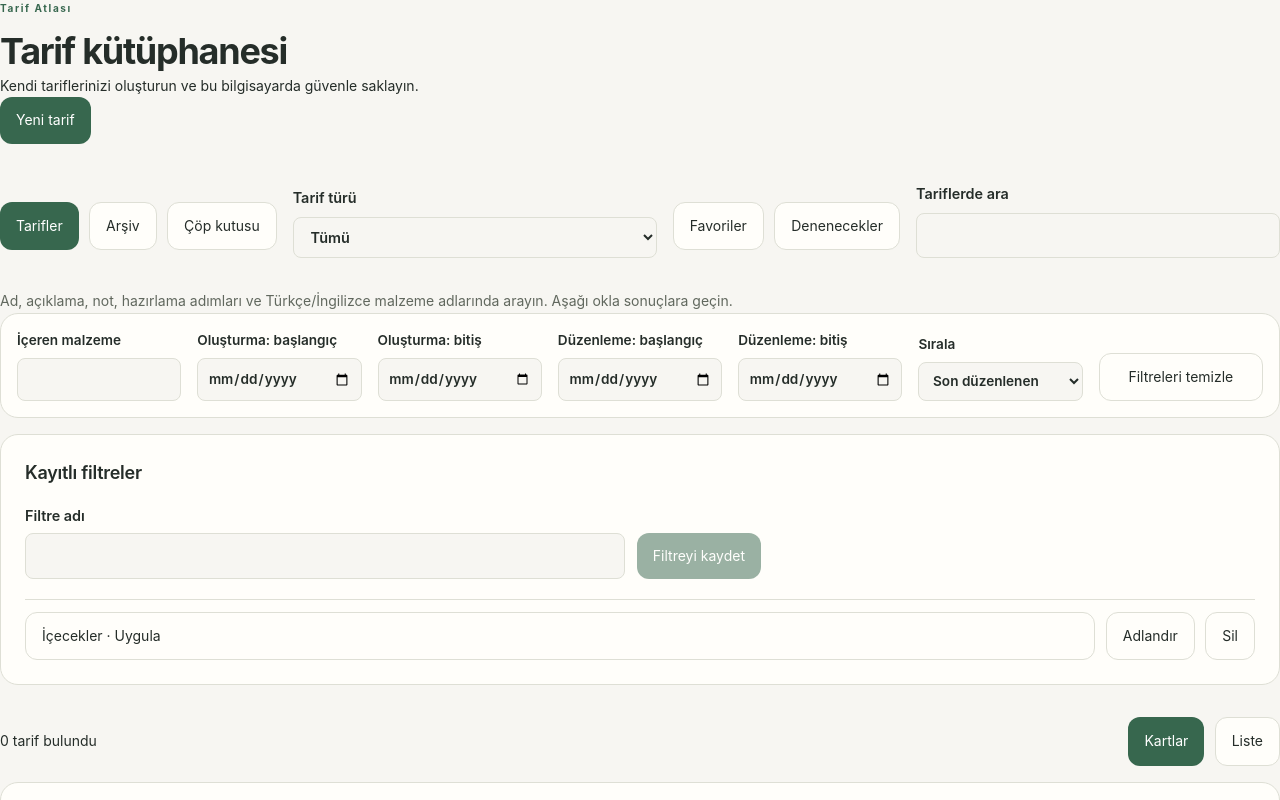
named filter is saved without pagination and applying it resets to first page
The width and height of the screenshot is (1280, 800).
Expected: the button "İçecekler · Uygula" is shown, [25,612,1096,660]
Type "İçli tarifler" into the field labelled "Filtre adı" at [325, 556], box [25,533,625,579]
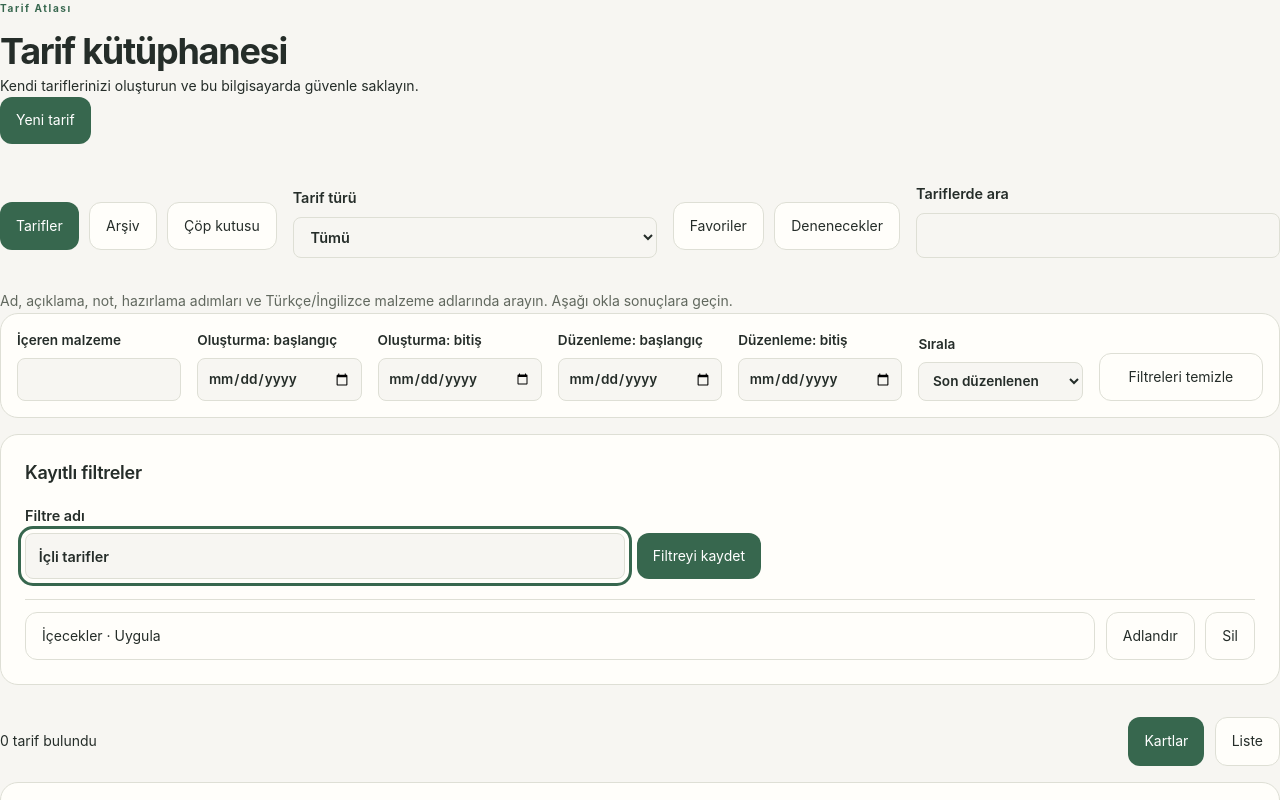
Click the button "Filtreyi kaydet" at [699, 556], box [637,532,761,579]
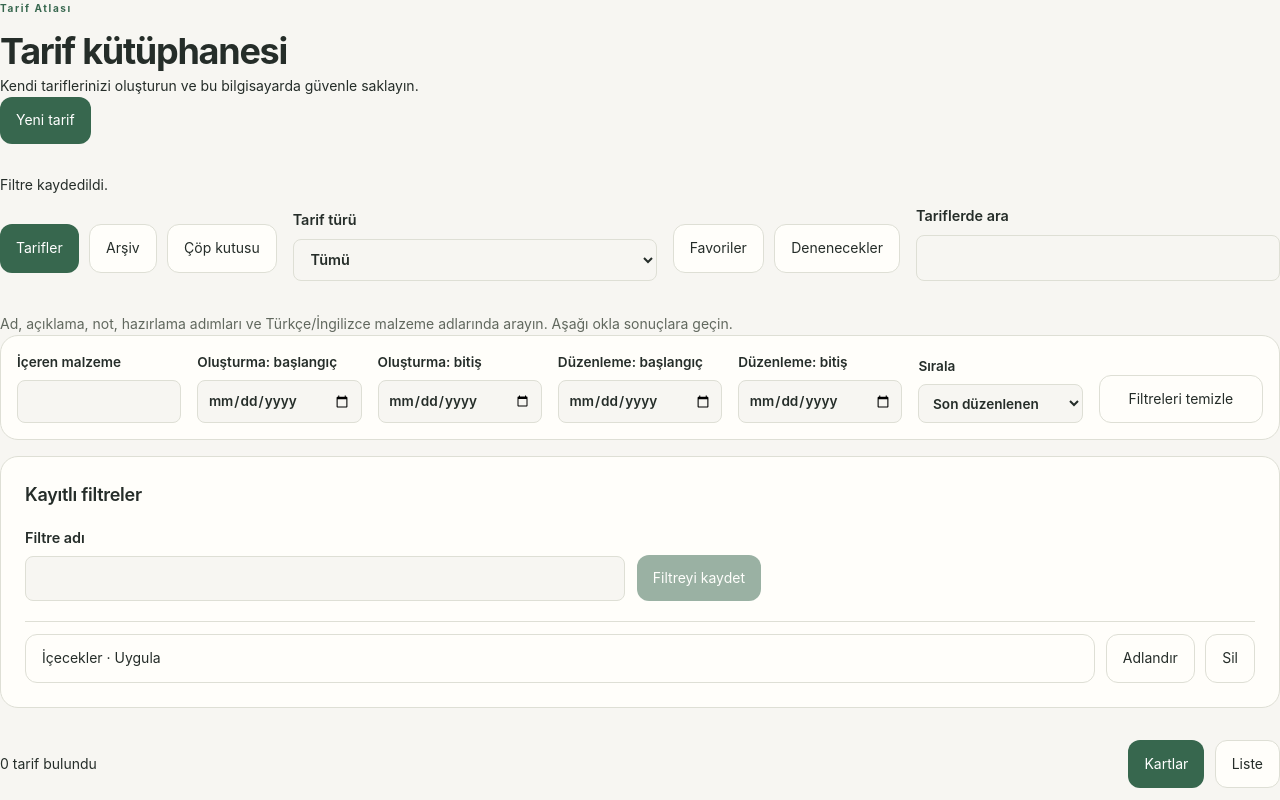
Click the button "İçecekler · Uygula" at [72, 658], box [25,634,1096,683]
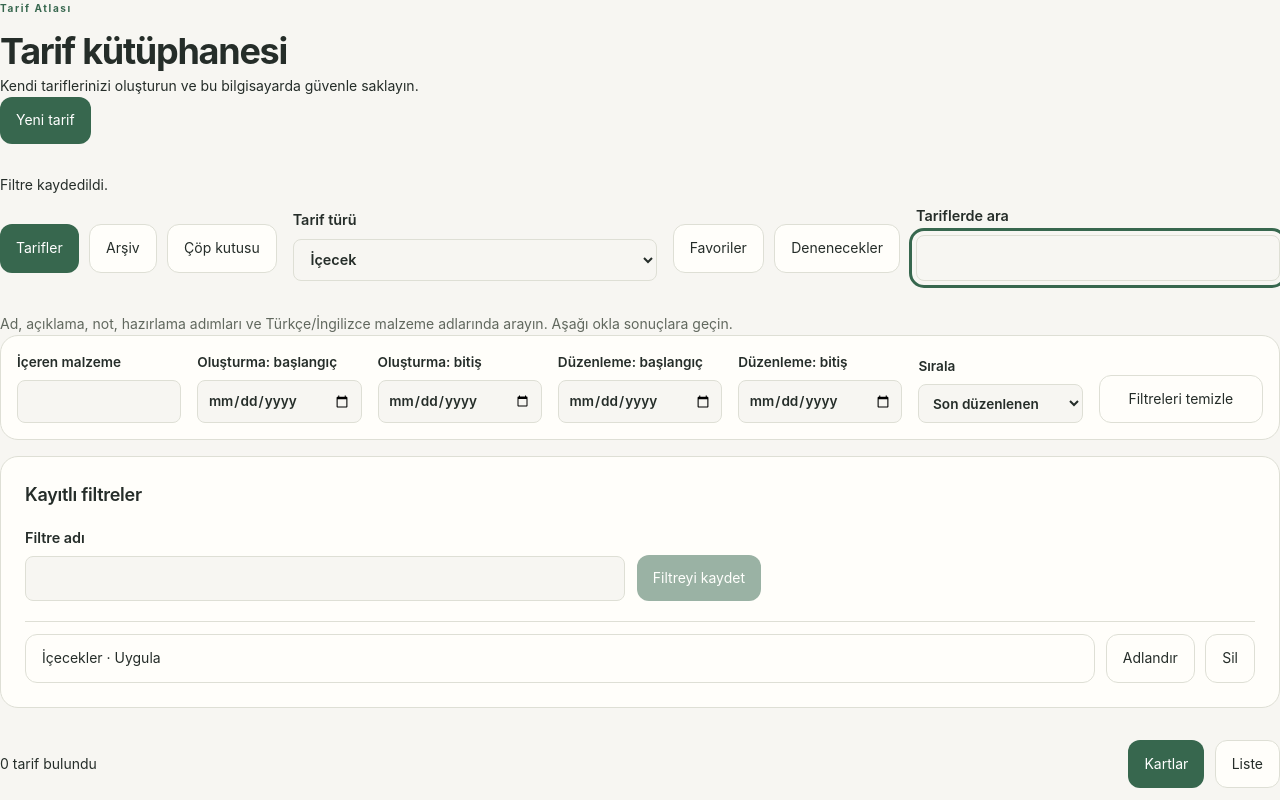
Now the dropdown labelled "Tarif türü" shows "İçecek", box [293,239,657,281]
